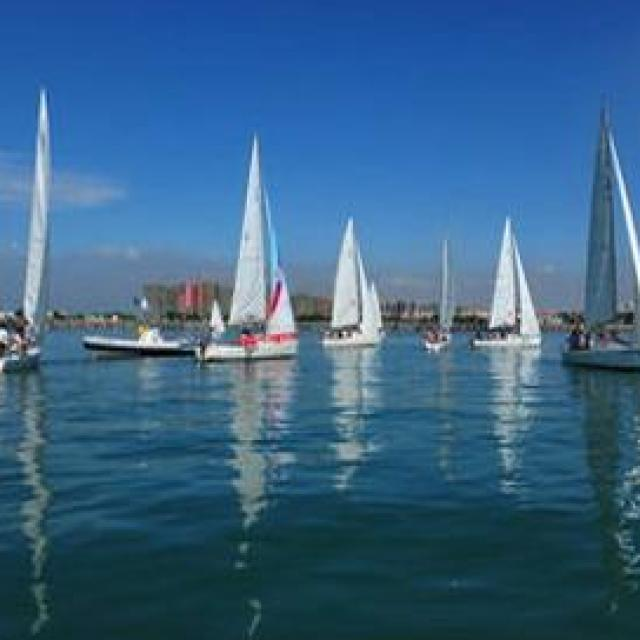houseboat: (80, 318, 200, 353)
sailboat: (200, 134, 300, 364), (560, 106, 640, 367), (0, 73, 59, 372), (474, 205, 539, 349), (323, 212, 387, 347), (414, 236, 461, 351)
